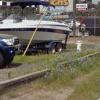Boat: (2, 6, 84, 53)
